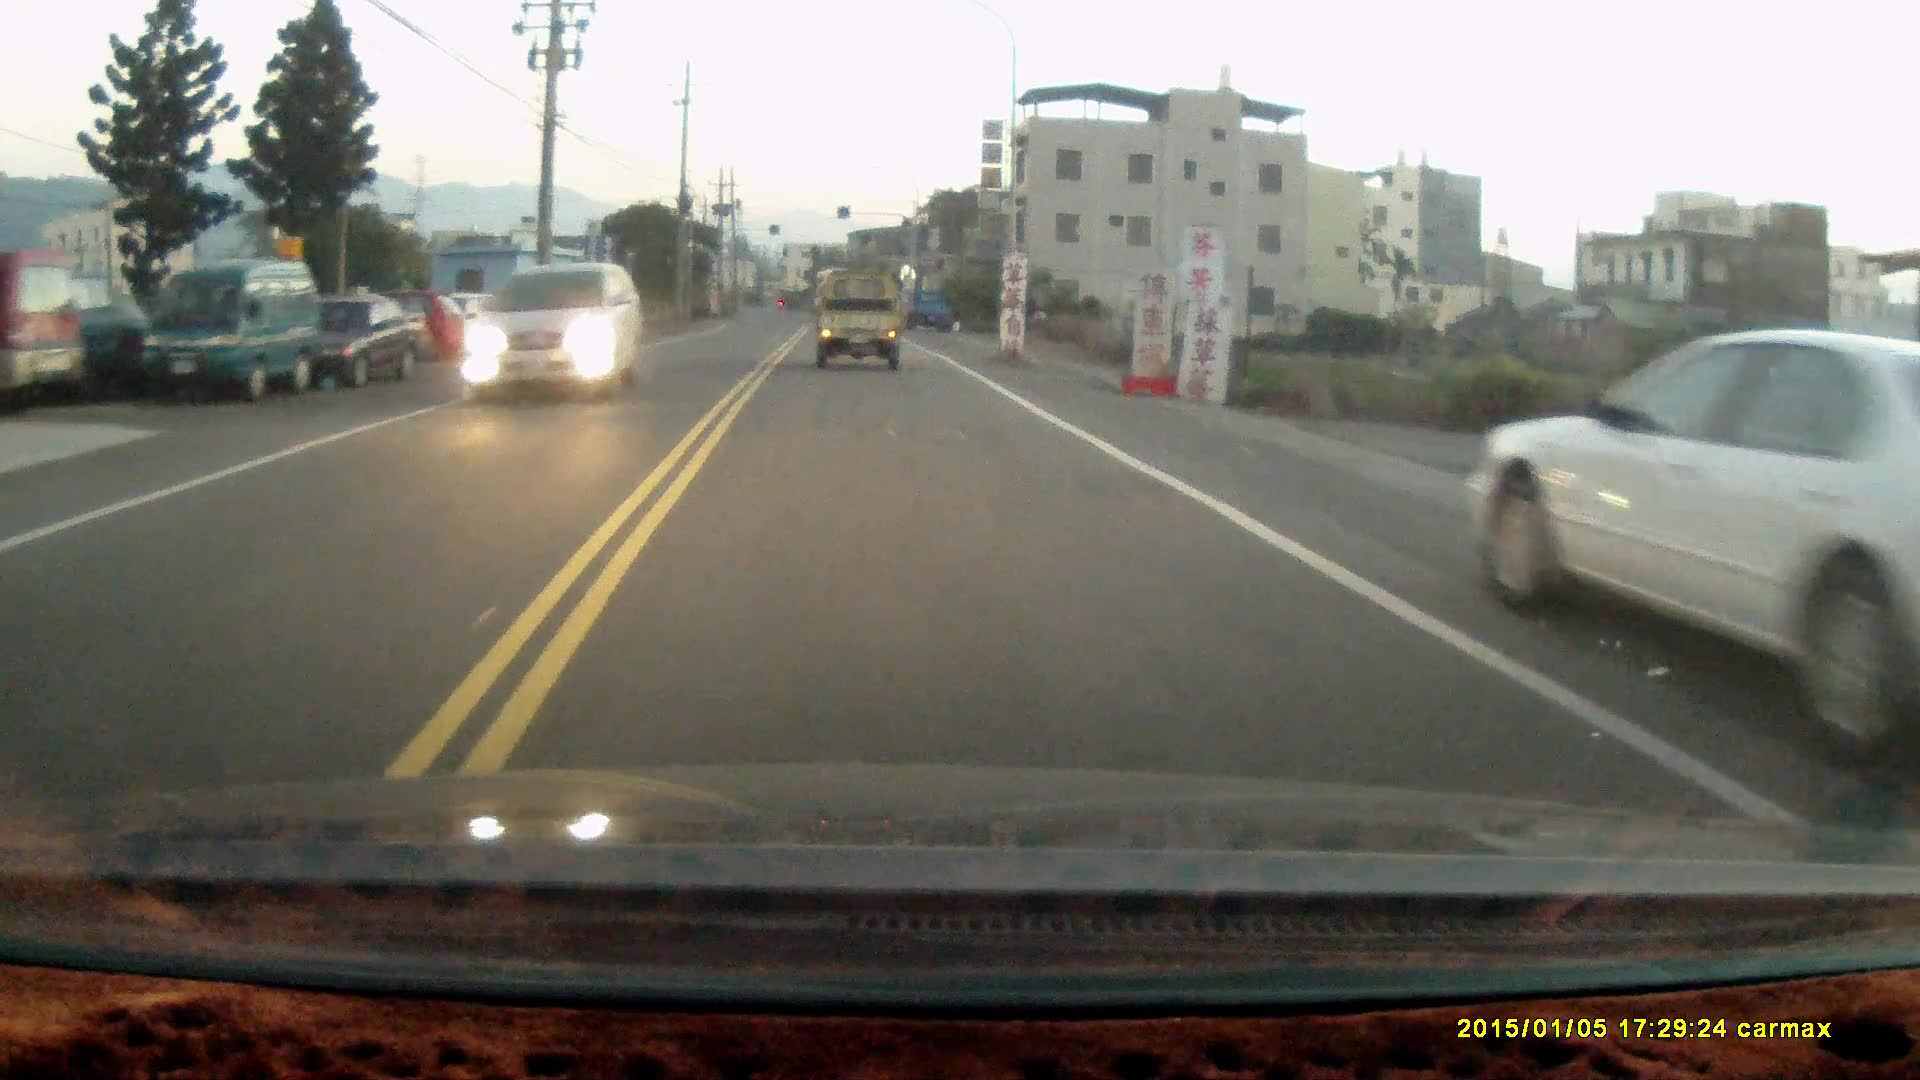vehicle: (1469, 326, 1920, 750), (463, 262, 645, 407), (141, 258, 322, 401), (1, 247, 88, 400), (315, 291, 433, 397), (814, 276, 907, 373), (899, 287, 956, 334)
